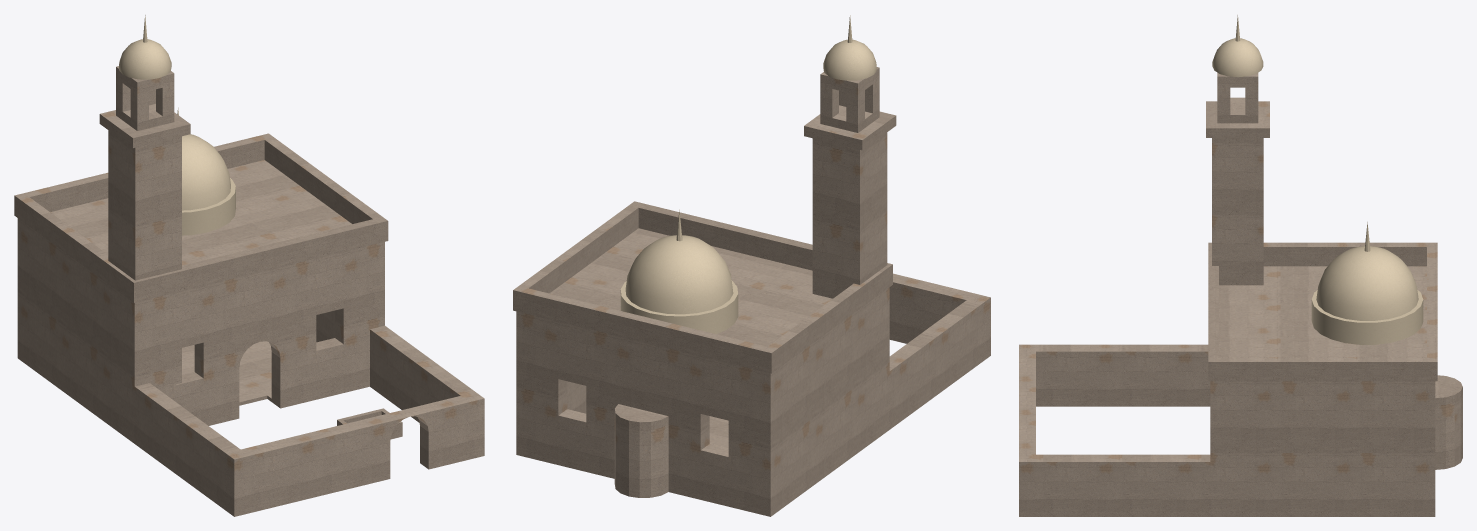
Rendered from small_2.glb.
3 views of the same model, side by side, from view 1: azimuth 30°, elevation 25°; view 2: azimuth 150°, elevation 25°; view 3: azimuth 270°, elevation 25° (orthographic). The views are drawn at different scales.
Parts seen in each view (by area): view 1: mosque_small; view 2: mosque_small; view 3: mosque_small.
Part boxes in pixels (left/top/right/bottom): mosque_small: left=14, top=15, right=484, bottom=516; mosque_small: left=513, top=15, right=990, bottom=516; mosque_small: left=1019, top=15, right=1462, bottom=516.
Size of the model in its own units: 9.34 by 14.41 by 14.58.
2 materials, 2 textured.
